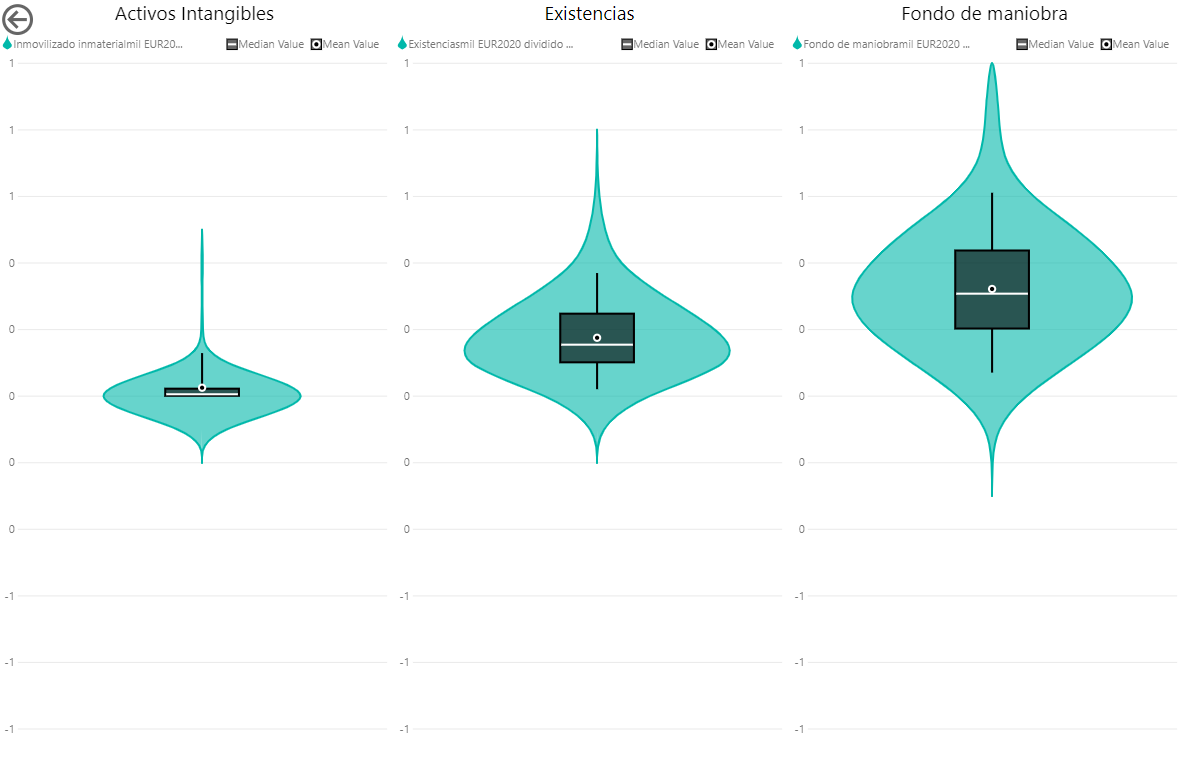

Layout of this report page (visuals, bound fields, positions):
{"tool":"powerbi","page":{"name":"Requisitos CP","canvas":[1280,720],"ordinal":2},"visuals":[{"type":"violinPlot4D46EB9EB3A141D9BA2289793175D971","title":"Existencias","fields":{"measure":["PRA2 Visualización Datos.Existenciasmil EUR2020 dividido por Total Activomil EUR2020"],"sampling":["PRA2 Visualización Datos.Nombre"]},"box":[384,0,384,720],"z":0},{"type":"violinPlot4D46EB9EB3A141D9BA2289793175D971","title":"Activos Intangibles","fields":{"measure":["PRA2 Visualización Datos.Inmovilizado inmaterialmil EUR2020 dividido por Total Activomil EUR2020"],"sampling":["PRA2 Visualización Datos.Nombre"]},"box":[0,0,384,720],"z":1000},{"type":"violinPlot4D46EB9EB3A141D9BA2289793175D971","title":"Fondo de maniobra","fields":{"measure":["PRA2 Visualización Datos.Fondo de maniobramil EUR2020 dividido por Total Activomil EUR2020"],"sampling":["PRA2 Visualización Datos.Nombre"]},"box":[768,0,384,720],"z":2000},{"type":"actionButton","box":[0,0,100,40],"z":3000}]}

Visuals, with their boxes on the page's 1280x720 design canvas (x1, y1, x2, y2). These are canvas units, not pixel positions in the 1190x757 screenshot, which may show the page scaled, cropped or inside an application window:
"Existencias" violinPlot4D46EB9EB3A141D9BA2289793175D971: box(384, 0, 768, 720)
"Activos Intangibles" violinPlot4D46EB9EB3A141D9BA2289793175D971: box(0, 0, 384, 720)
"Fondo de maniobra" violinPlot4D46EB9EB3A141D9BA2289793175D971: box(768, 0, 1152, 720)
actionButton: box(0, 0, 100, 40)
